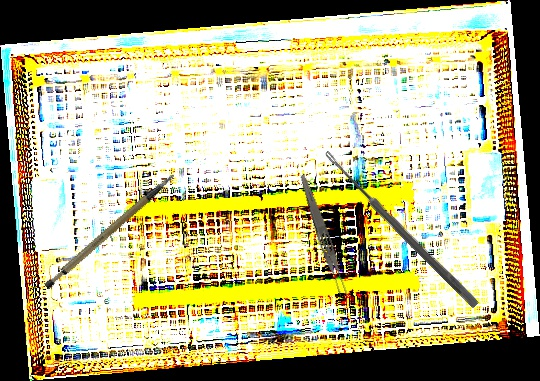Dressing Forceps: (293, 172, 352, 300)
Scalpel Handle: (31, 172, 191, 293)
Surgical Spoon: (321, 149, 481, 309)
